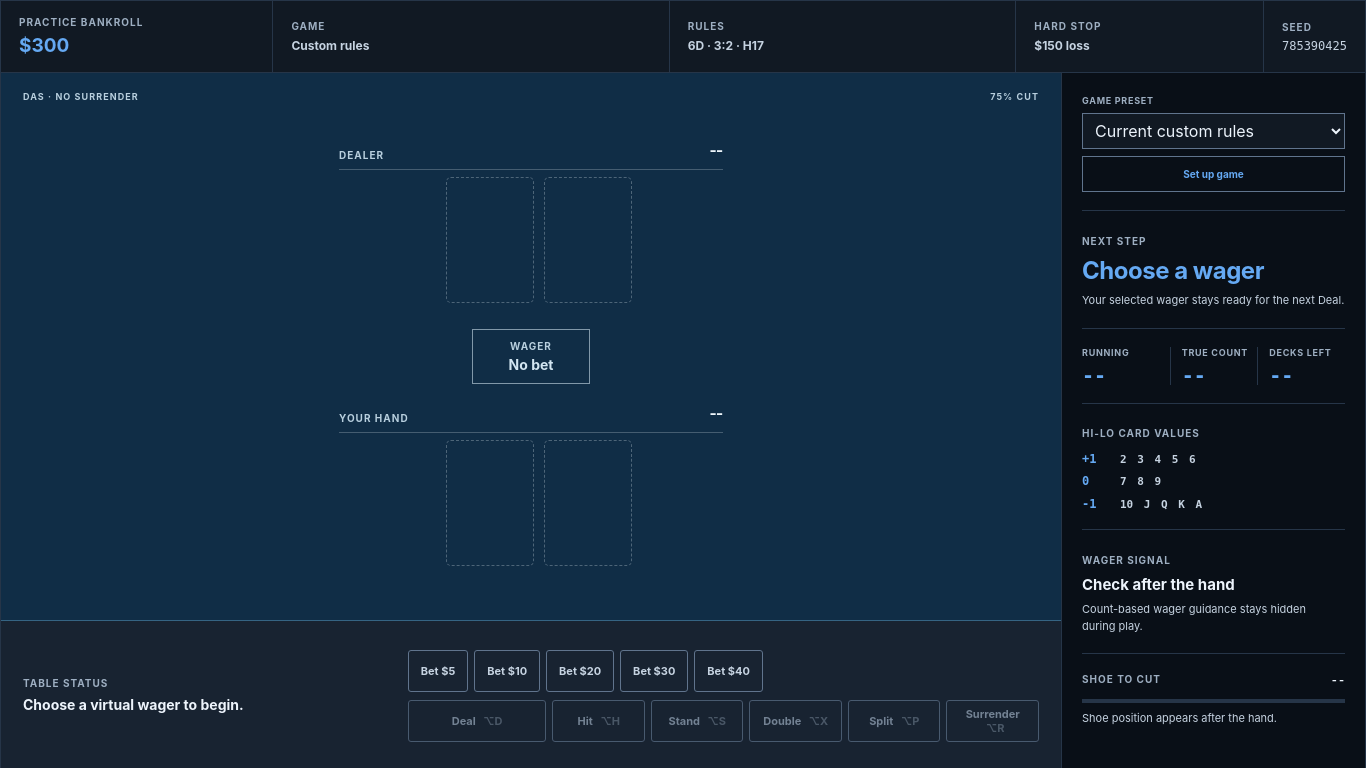
Test: BlackjackTable › flags a basic-strategy miss immediately in Play mode
Click the button "Bet $5". click: click(438, 671)
box: [408, 650, 468, 692]
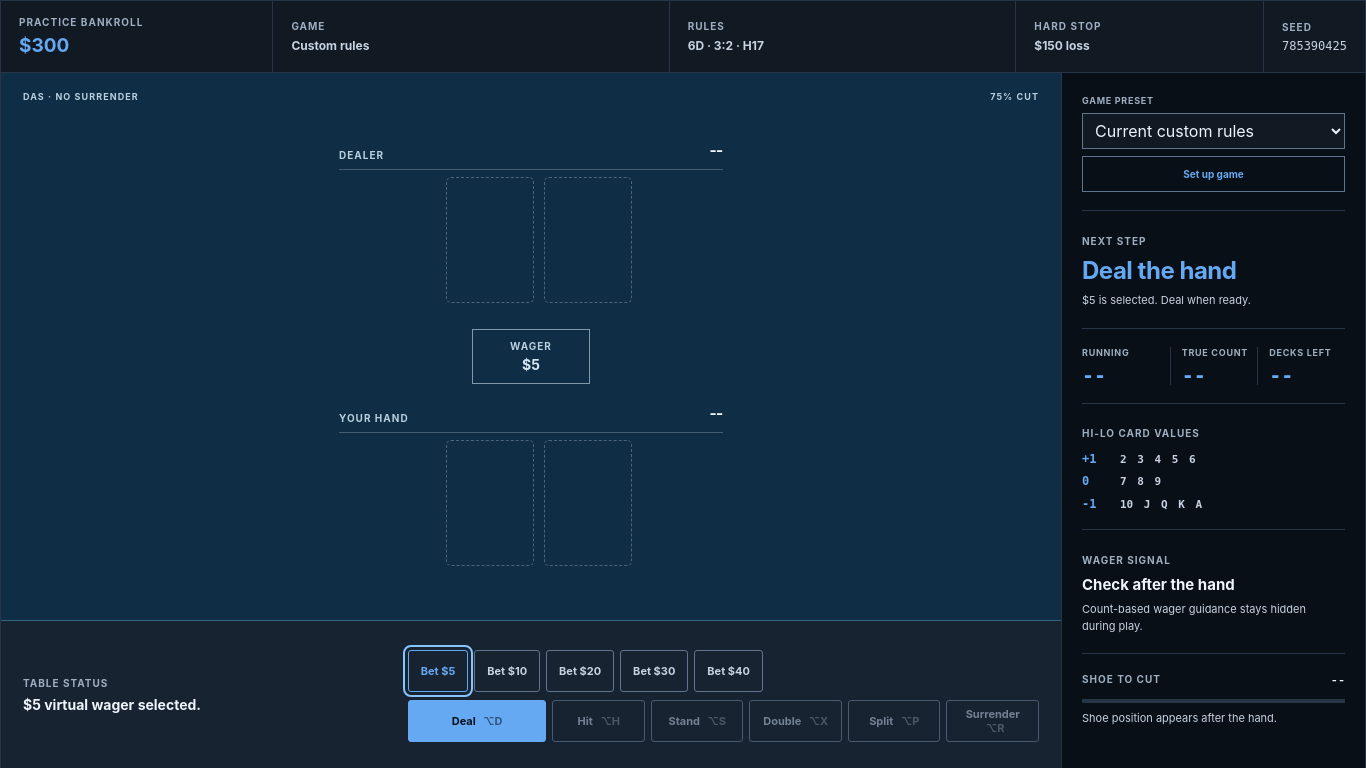
Click the button "Deal ⌥D". click: click(477, 721)
box: [408, 700, 546, 742]
(page scrolled)
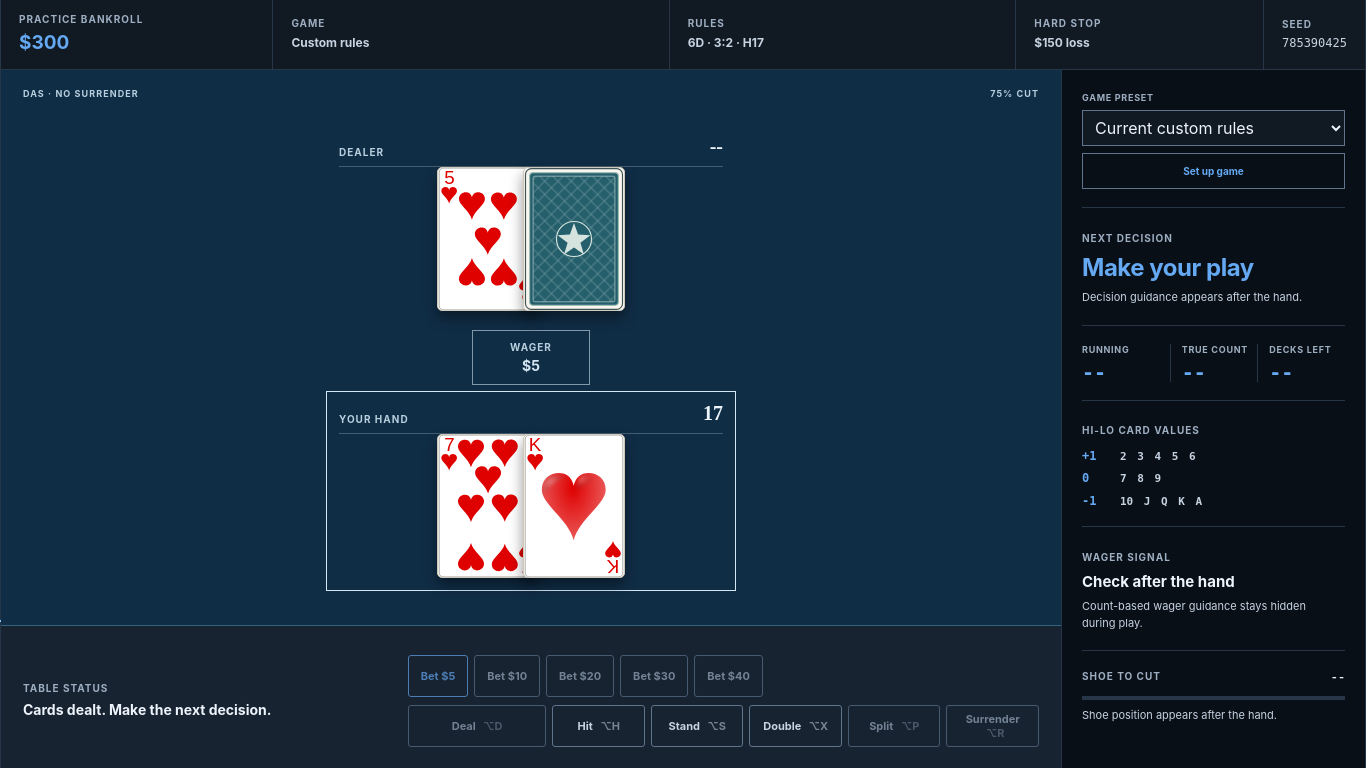
Click the button "Hit ⌥H". click: click(599, 726)
box: [552, 705, 645, 747]
(page scrolled)
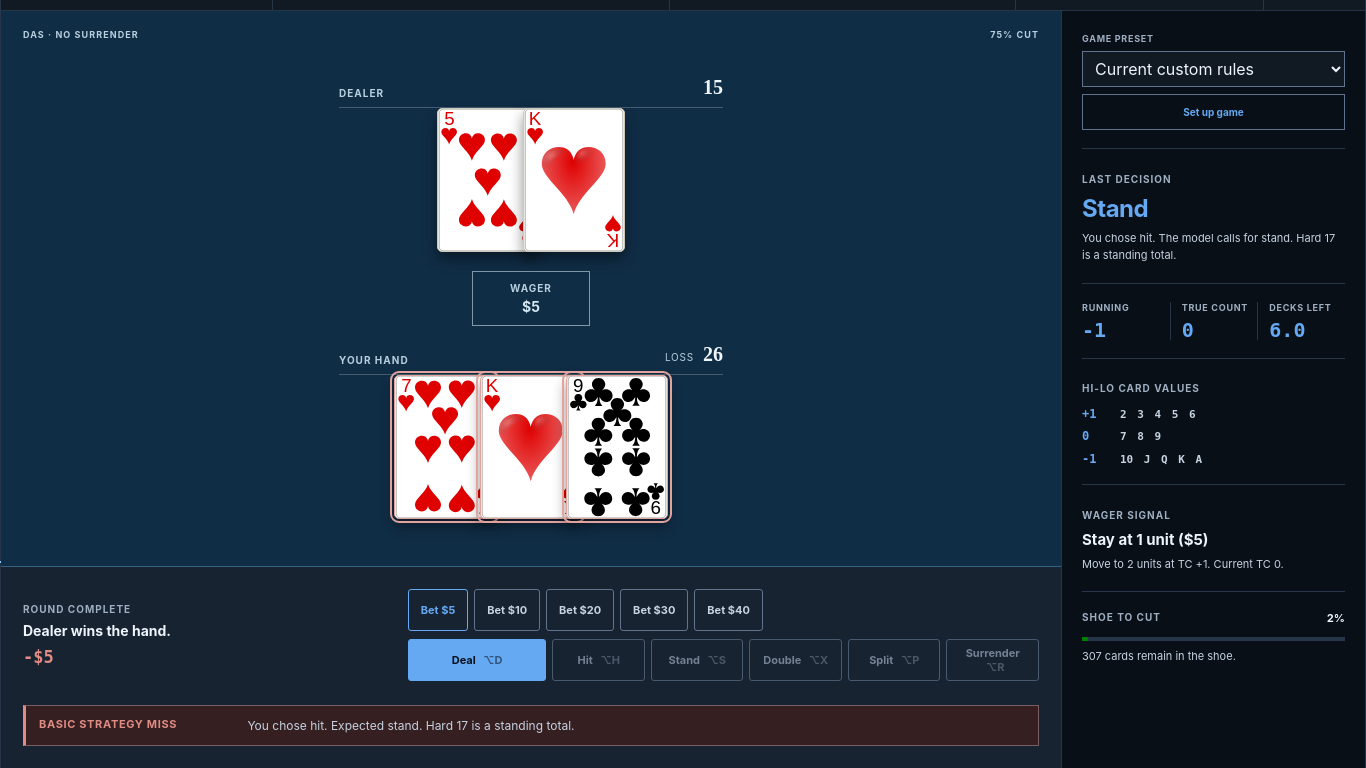
Expected: the message shows "Basic strategy miss", [39, 717, 177, 731]
Expected: the message shows "You chose hit. Expected stand.", [247, 718, 574, 733]
